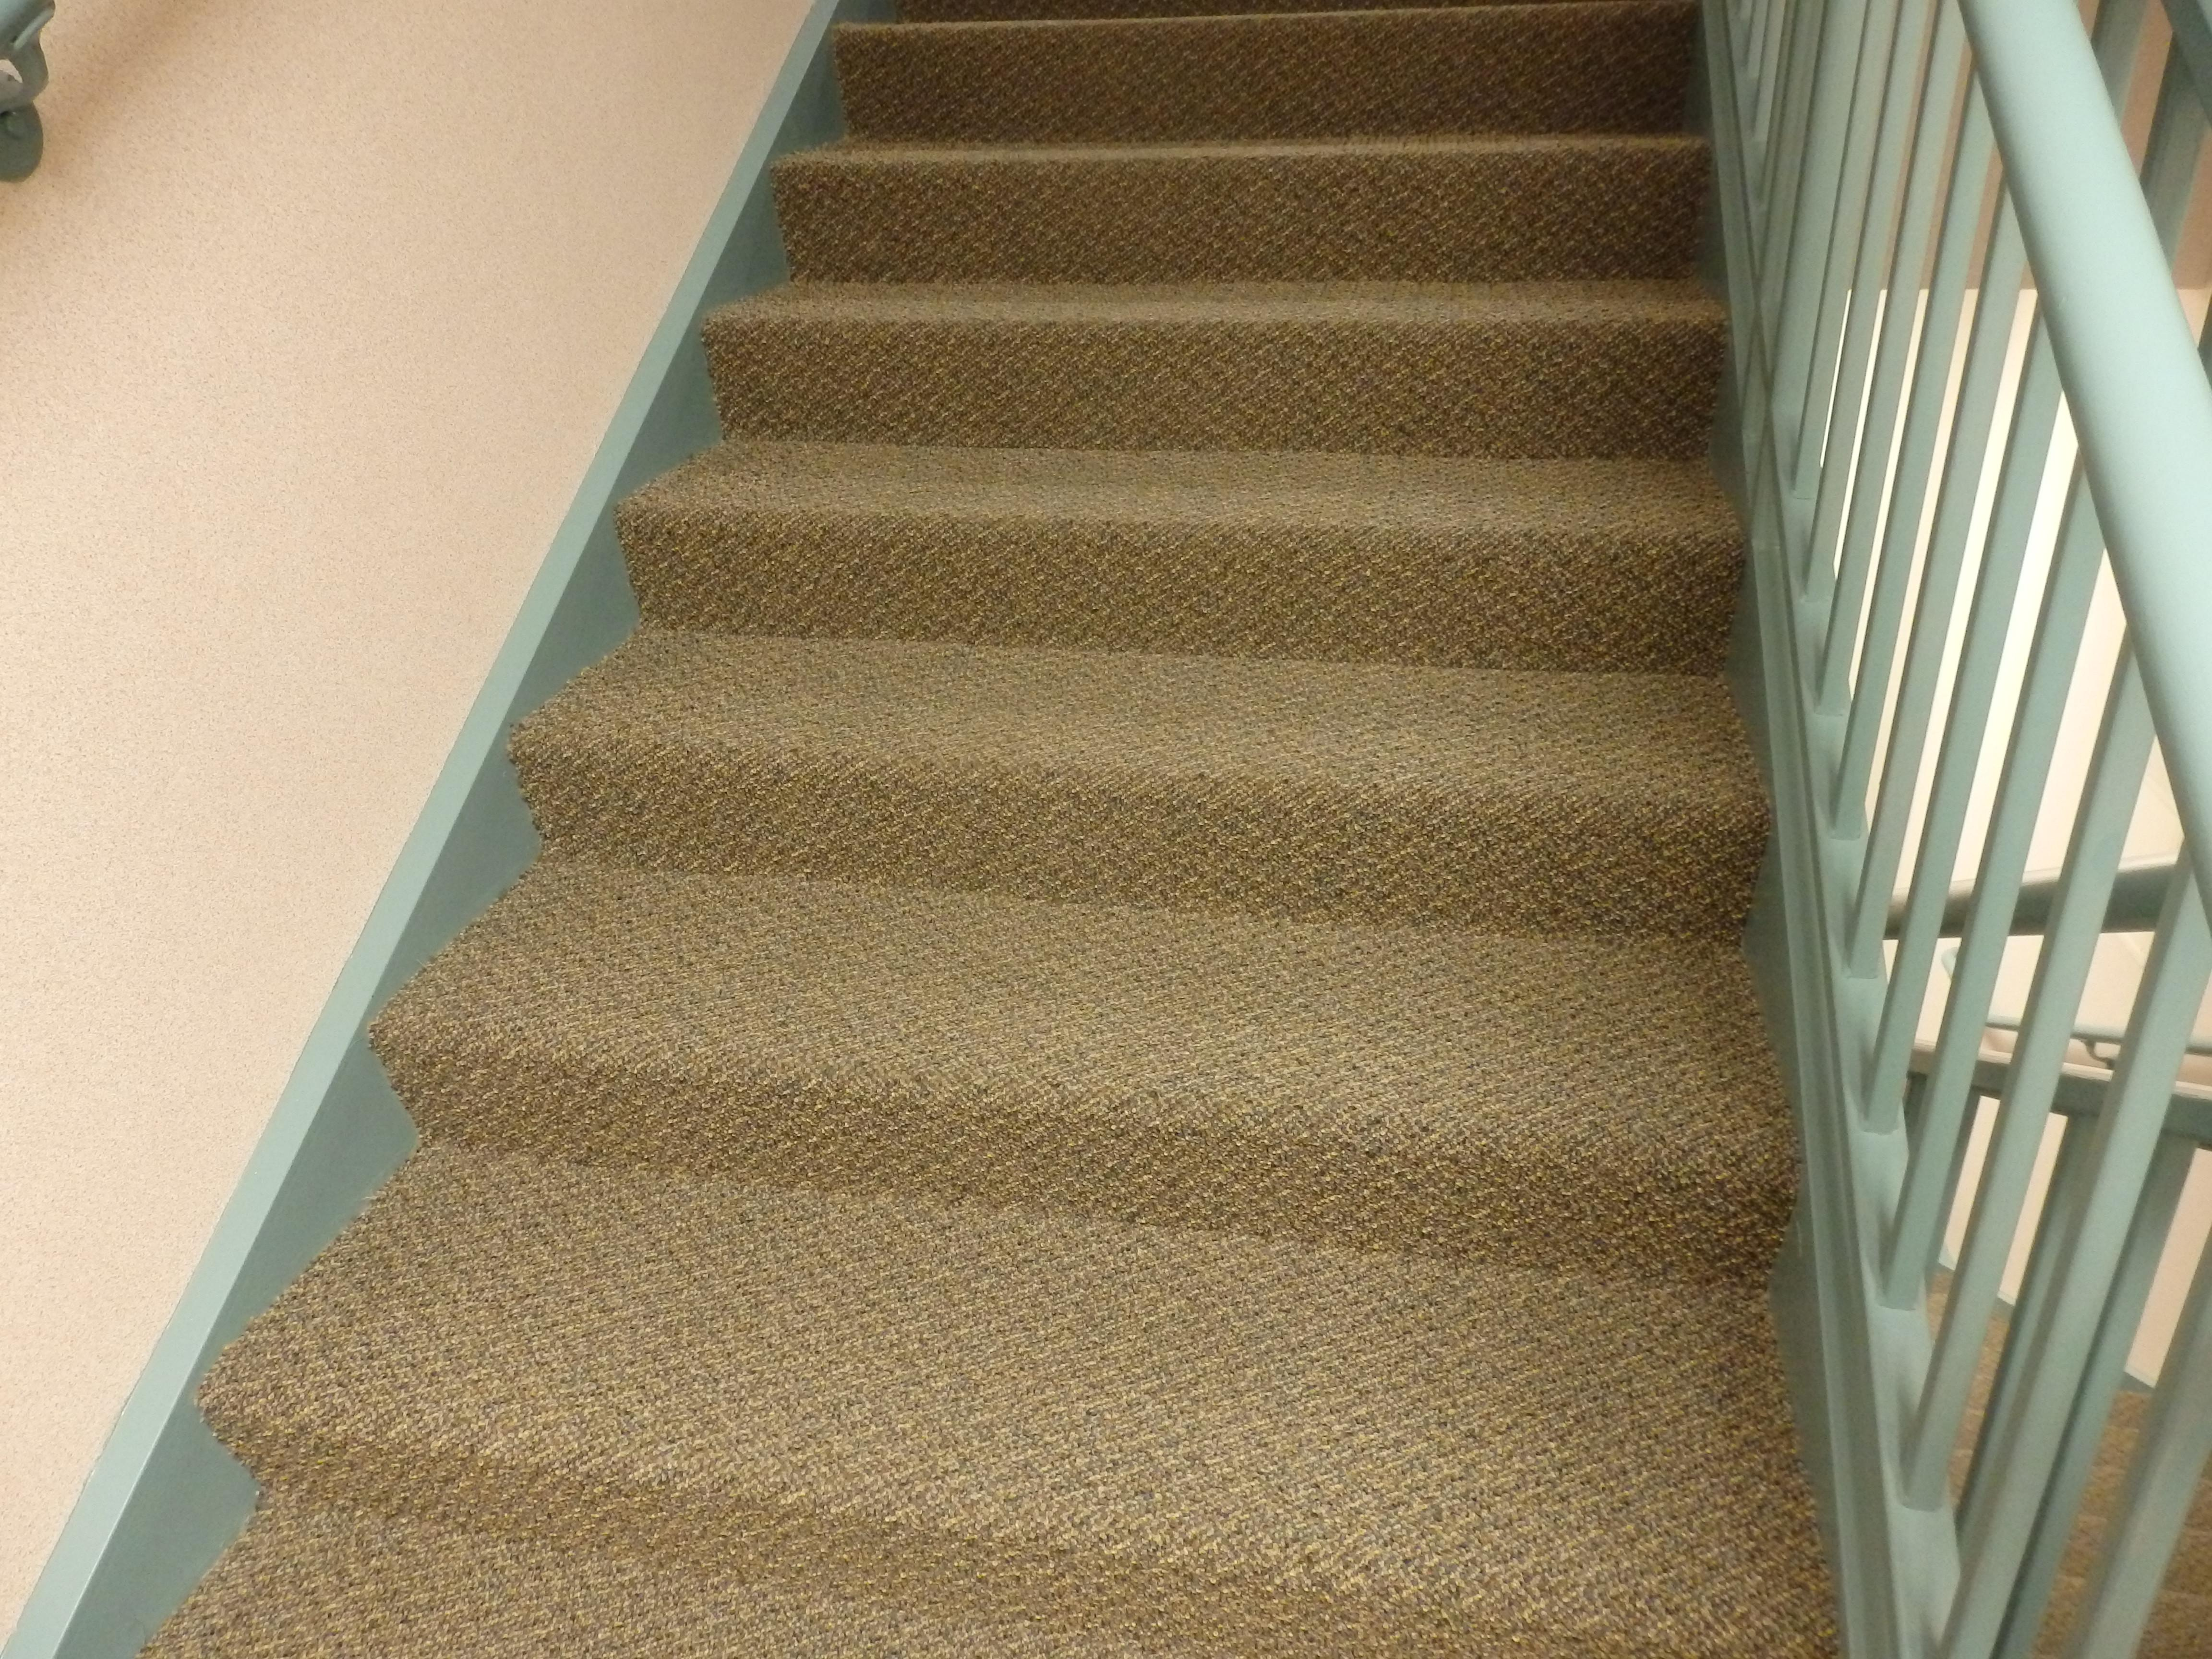stairs_up: (467, 0, 1853, 1652)
